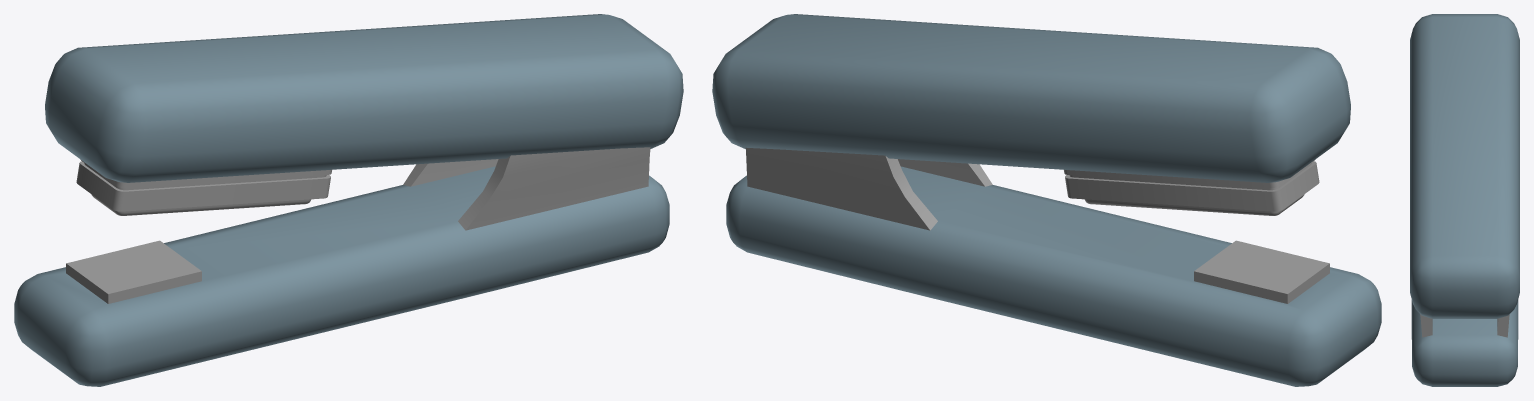
The model's file is Staple02.fbx.
3 views of the same model, side by side, from view 1: azimuth 30°, elevation 25°; view 2: azimuth 150°, elevation 25°; view 3: azimuth 270°, elevation 25° (orthographic). The views are drawn at different scales.
Parts seen in each view (by area): view 1: Staple02; view 2: Staple02; view 3: Staple02.
Boxes of the visible parts, x1,y1,x2,y2 form: Staple02: (14, 14, 683, 386); Staple02: (712, 14, 1381, 386); Staple02: (1410, 14, 1519, 386).
Size of the model in its own units: 0.1705 by 0.0387 by 0.0774.
